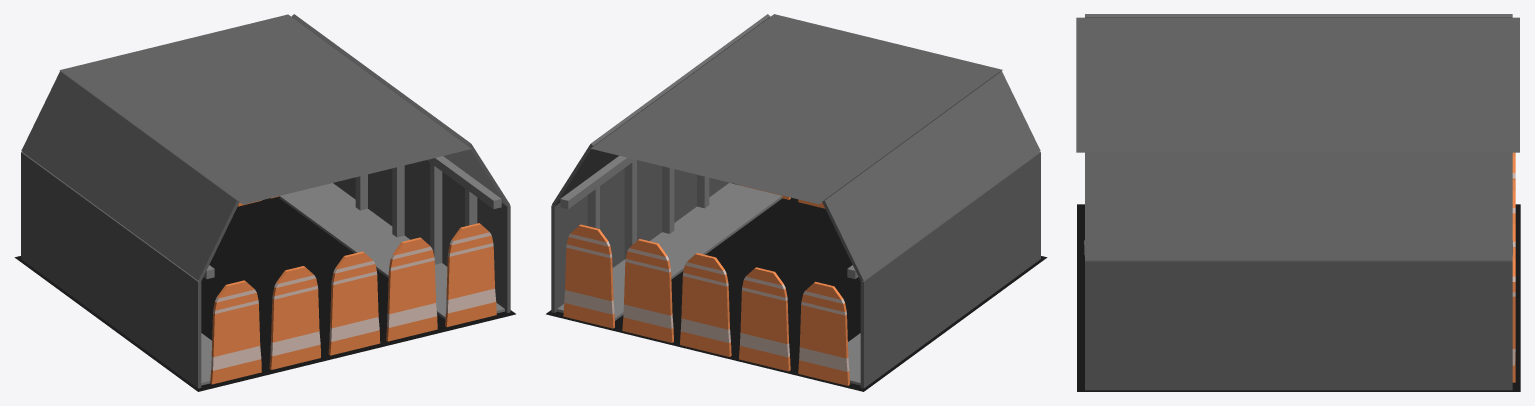
The model's file is tunnel_prototype_1.glb.
The picture shows the model from 3 angles, left to right: view 1: azimuth 30°, elevation 25°; view 2: azimuth 150°, elevation 25°; view 3: azimuth 270°, elevation 25°; orthographic projection. The views are drawn at different scales.
Visible parts, largest first — view 1: Ceiling, SlantedRoofRight, WallRight, Floor, WallLeft, SidewalkLeft, RoadBlock.001, RoadBlock.004, RoadBlock, RoadBlock.002, RoadBlock.003, PillarsVerticalLeft (+3 smaller); view 2: Ceiling, SlantedRoofRight, WallRight, Floor, WallLeft, SidewalkLeft, RoadBlock.008, RoadBlock.006, RoadBlock.007, RoadBlock.009, RoadBlock.005, PillarsVerticalLeft (+3 smaller); view 3: Ceiling, WallLeft, SlantedRoofLeft, Floor, SlantedRoofRight, RoadBlock.005.
Part boxes in pixels (x1,y1,x2,y2): Ceiling: [59, 14, 471, 204]; SlantedRoofRight: [21, 71, 239, 281]; WallRight: [21, 152, 201, 388]; Floor: [14, 196, 515, 391]; WallLeft: [333, 160, 510, 312]; SidewalkLeft: [279, 183, 504, 319]; RoadBlock.001: [386, 237, 437, 341]; RoadBlock.004: [210, 280, 261, 384]; RoadBlock: [445, 223, 496, 326]; RoadBlock.002: [328, 251, 380, 355]; RoadBlock.003: [269, 266, 320, 369]; PillarsVerticalLeft: [355, 163, 477, 264]; Ceiling: [591, 14, 1002, 204]; SlantedRoofRight: [822, 71, 1040, 281]; WallRight: [860, 152, 1040, 388]; Floor: [546, 183, 1047, 391]; WallLeft: [551, 160, 731, 312]; SidewalkLeft: [557, 183, 782, 320]; RoadBlock.008: [739, 267, 790, 371]; RoadBlock.006: [622, 239, 673, 342]; RoadBlock.007: [680, 253, 731, 356]; RoadBlock.009: [798, 281, 849, 385]; RoadBlock.005: [563, 224, 614, 328]; PillarsVerticalLeft: [587, 160, 709, 259]; Ceiling: [1076, 17, 1519, 152]; WallLeft: [1085, 260, 1512, 390]; SlantedRoofLeft: [1085, 152, 1512, 260]; Floor: [1077, 204, 1520, 391]; SlantedRoofRight: [1085, 14, 1512, 17]; RoadBlock.005: [1512, 248, 1515, 382].
Size of the model in its own units: 79.68 by 42.86 by 79.78.
